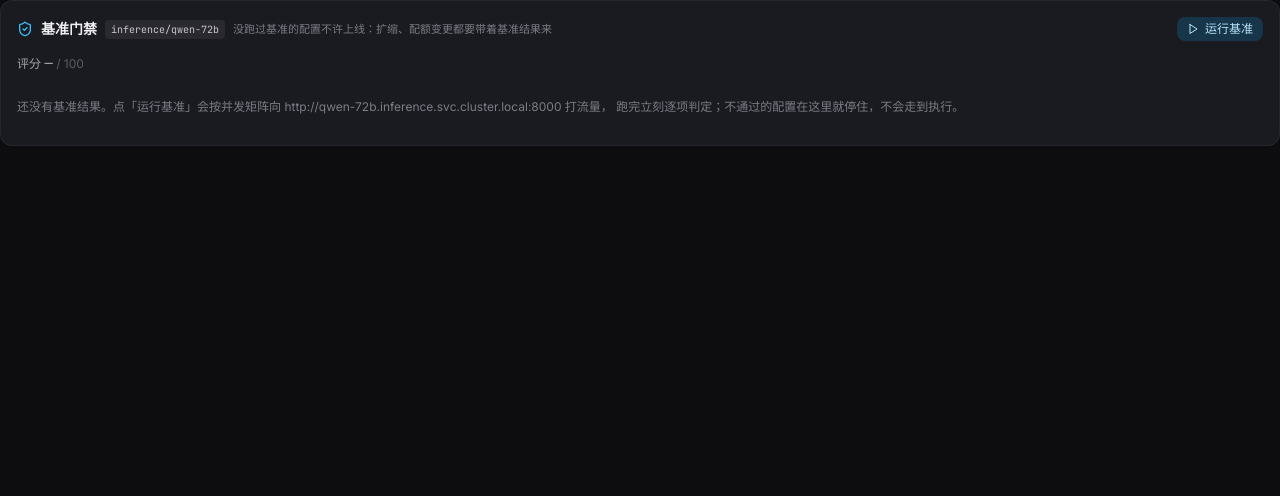
Test: GateReport 门禁 › checks 里 scored:false 显示「未验证」而不是「通过」
Step 1. Click the button "运行基准" → (1220, 29), box x1=1177 y1=17 x2=1263 y2=41
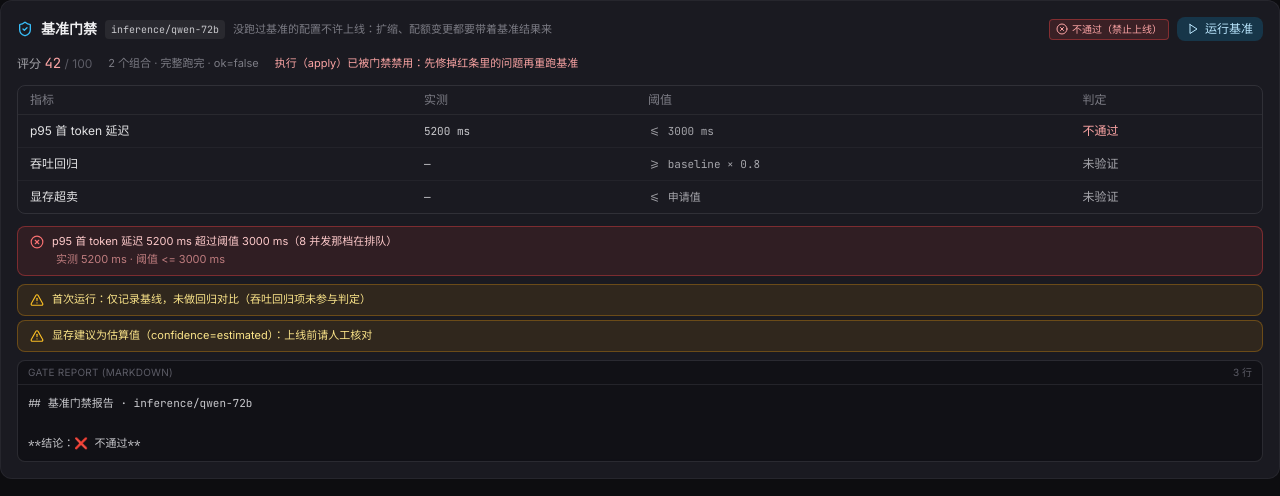
Check: the cell with test id "gate-check-verdict" reads "不通过", box x1=1082 y1=123 x2=1118 y2=138
Check: the cell with test id "gate-check-verdict" in the row of ">= baseline × 0.8" reads "未验证", box x1=1082 y1=156 x2=1118 y2=171
